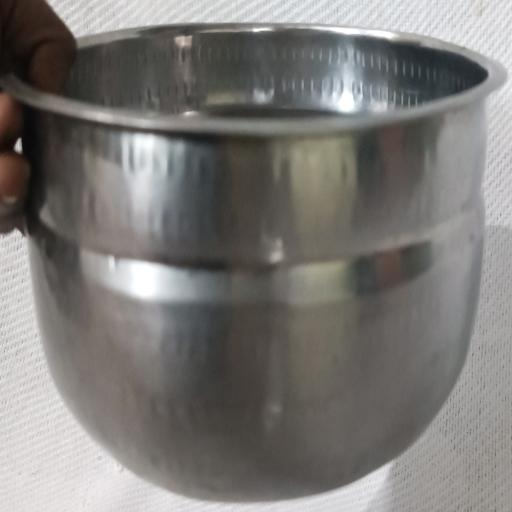vessel: (3, 25, 505, 501)
